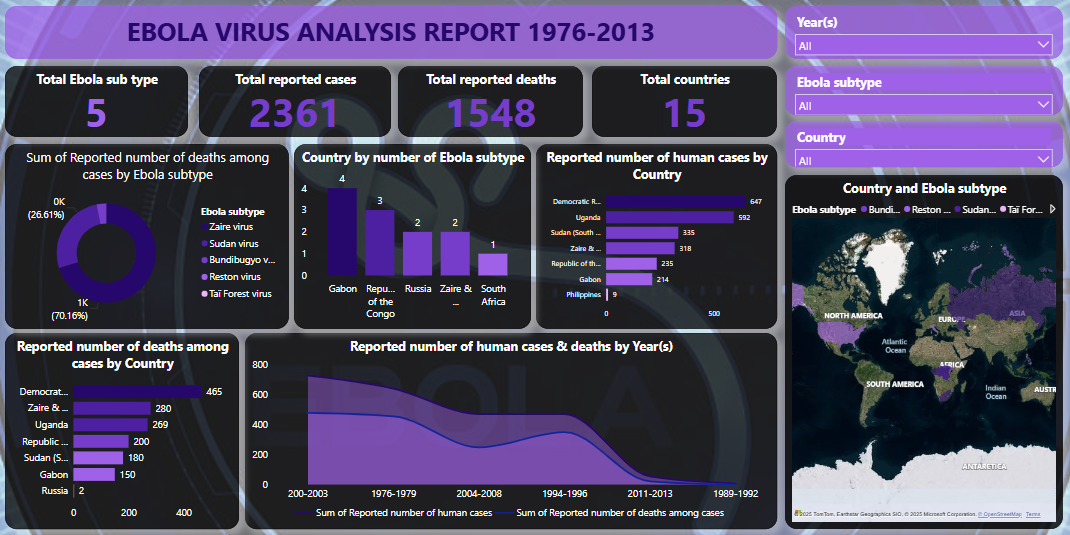

The page's visual inventory and layout, read from the dashboard file:
{"tool":"powerbi","page":{"name":"DASHBOARD","canvas":[1800,980],"ordinal":2},"visuals":[{"type":"barChart","title":"Reported number of human cases by Country","fields":{"Category":["Sheet1.Country (groups)","Sheet1.Country"],"Y":["Sum(Sheet1.Reported number of human cases)"]},"box":[908.3,245,401.7,308.3],"z":0},{"type":"lineChart","title":"Reported number of human cases & deaths  by Year(s) ","fields":{"Category":["Sheet1.Year(s) (groups)"],"Y":["Sum(Sheet1.Reported number of human cases)","Sum(Sheet1.Reported number of deaths among cases)"]},"box":[423.3,560,886.7,326.7],"z":1000},{"type":"barChart","title":"Reported number of deaths among cases by Country","fields":{"Category":["Sheet1.Country (groups)"],"Y":["Sum(Sheet1.Reported number of deaths among cases)"]},"box":[23.3,560,390,326.7],"z":2000},{"type":"filledMap","fields":{"Category":["Sheet1.Country"],"Series":["Sheet1.Ebola subtype"]},"box":[1323.3,296.7,463.3,590],"z":3000},{"type":"donutChart","fields":{"Category":["Sheet1.Ebola subtype"],"Y":["Sum(Sheet1.Reported number of deaths among cases)"]},"box":[23.3,245,473.3,308.3],"z":4000},{"type":"columnChart","title":"Country by number of Ebola subtype","fields":{"Y":["CountNonNull(Sheet1.Ebola subtype)"],"Category":["Sheet1.Country (groups)"]},"box":[505,245,395,308.3],"z":5000},{"type":"card","title":"Total Ebola sub type ","fields":{"Values":["Count(Sheet1.Ebola subtype)"]},"box":[23.3,115,305,118.3],"z":6000},{"type":"card","title":"Total reported cases","fields":{"Values":["Sum(Sheet1.Reported number of human cases)"]},"box":[346.7,115,320,118.3],"z":7000},{"type":"card","title":"Total reported deaths","fields":{"Values":["Sum(Sheet1.Reported number of deaths among cases)"]},"box":[678.3,115,308.3,118.3],"z":8000},{"type":"card","title":"Total countries","fields":{"Values":["Count(Sheet1.Country)"]},"box":[1001.7,115,308.3,118.3],"z":9000},{"type":"slicer","fields":{"Values":["Sheet1.Country"]},"box":[1323.3,206.7,463.3,76.7],"z":10000},{"type":"slicer","fields":{"Values":["Sheet1.Ebola subtype"]},"box":[1323.3,115,463.3,81.7],"z":11000},{"type":"slicer","fields":{"Values":["Sheet1.Year(s) (groups)"]},"box":[1323.3,15,463.3,88.3],"z":12000},{"type":"textbox","box":[23.3,15,1286.7,88.3],"z":13000}]}

Visuals, with their boxes on the page's 1800x980 design canvas (x1, y1, x2, y2). These are canvas units, not pixel positions in the 1070x535 screenshot, which may show the page scaled, cropped or inside an application window:
"Reported number of human cases by Country" barChart: 908/245/1310/553
"Reported number of human cases & deaths  by Year(s) " lineChart: 423/560/1310/887
"Reported number of deaths among cases by Country" barChart: 23/560/413/887
filledMap - Sheet1.Country x Sheet1.Ebola subtype: 1323/297/1787/887
donutChart - Sheet1.Ebola subtype x Sum(Sheet1.Reported number of deaths among cases): 23/245/497/553
"Country by number of Ebola subtype" columnChart: 505/245/900/553
"Total Ebola sub type " card: 23/115/328/233
"Total reported cases" card: 347/115/667/233
"Total reported deaths" card: 678/115/987/233
"Total countries" card: 1002/115/1310/233
slicer - Sheet1.Country: 1323/207/1787/283
slicer - Sheet1.Ebola subtype: 1323/115/1787/197
slicer - Sheet1.Year(s) (groups): 1323/15/1787/103
textbox: 23/15/1310/103
